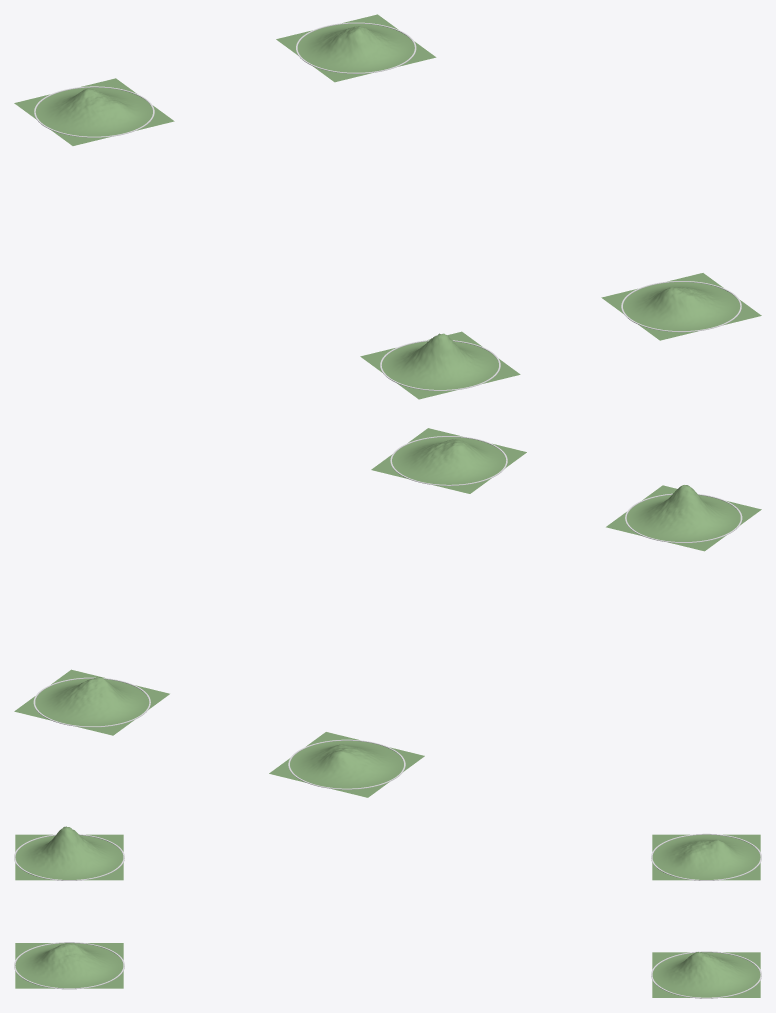
File: collines.glb
The picture shows the model from 3 angles, top to bottom: view 1: azimuth 30°, elevation 25°; view 2: azimuth 150°, elevation 25°; view 3: azimuth 270°, elevation 25°; orthographic projection. The views are drawn at different scales.
Visible parts, largest first — view 1: Colline_SO, Colline_NO, Colline_NE, Colline_SE; view 2: Colline_SO, Colline_NE, Colline_NO, Colline_SE; view 3: Colline_SO, Colline_NO, Colline_SE, Colline_NE, Colline_NE_bord, Colline_SE_bord, Colline_NO_bord, Colline_SO_bord.
Boxes of the visible parts, left/top/right/bottom form: Colline_SO: left=360, top=331, right=520, bottom=399; Colline_NO: left=14, top=78, right=174, bottom=145; Colline_NE: left=276, top=14, right=436, bottom=82; Colline_SE: left=601, top=273, right=761, bottom=340; Colline_SO: left=606, top=485, right=761, bottom=551; Colline_NE: left=14, top=669, right=169, bottom=735; Colline_NO: left=269, top=732, right=424, bottom=797; Colline_SE: left=371, top=428, right=526, bottom=493; Colline_SO: left=15, top=826, right=123, bottom=880; Colline_NO: left=652, top=834, right=760, bottom=880; Colline_SE: left=15, top=943, right=123, bottom=988; Colline_NE: left=652, top=952, right=760, bottom=997; Colline_NE_bord: left=651, top=951, right=761, bottom=998; Colline_SE_bord: left=14, top=942, right=124, bottom=989; Colline_NO_bord: left=651, top=833, right=761, bottom=880; Colline_SO_bord: left=14, top=834, right=124, bottom=880.
Size of the model in its own units: 106 by 9.13 by 204.
